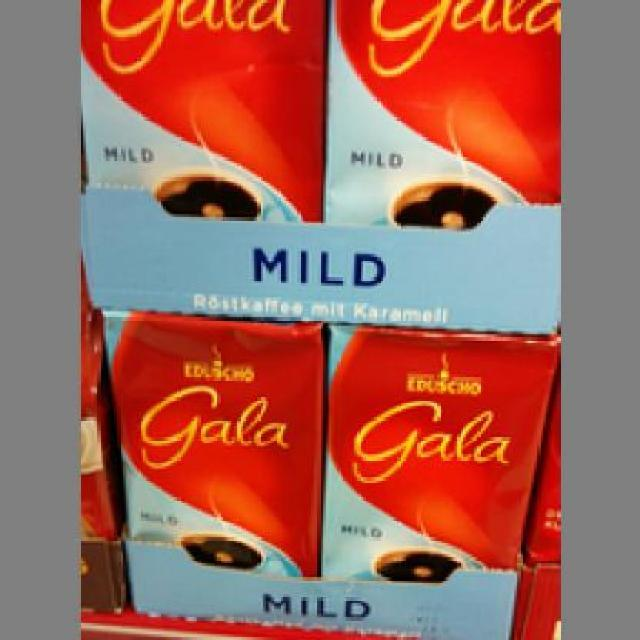Coffee: (97, 305, 320, 578), (323, 323, 551, 577), (77, 0, 320, 217), (326, 0, 554, 229)
